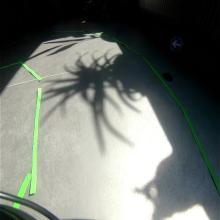left: (169, 35, 183, 53)
